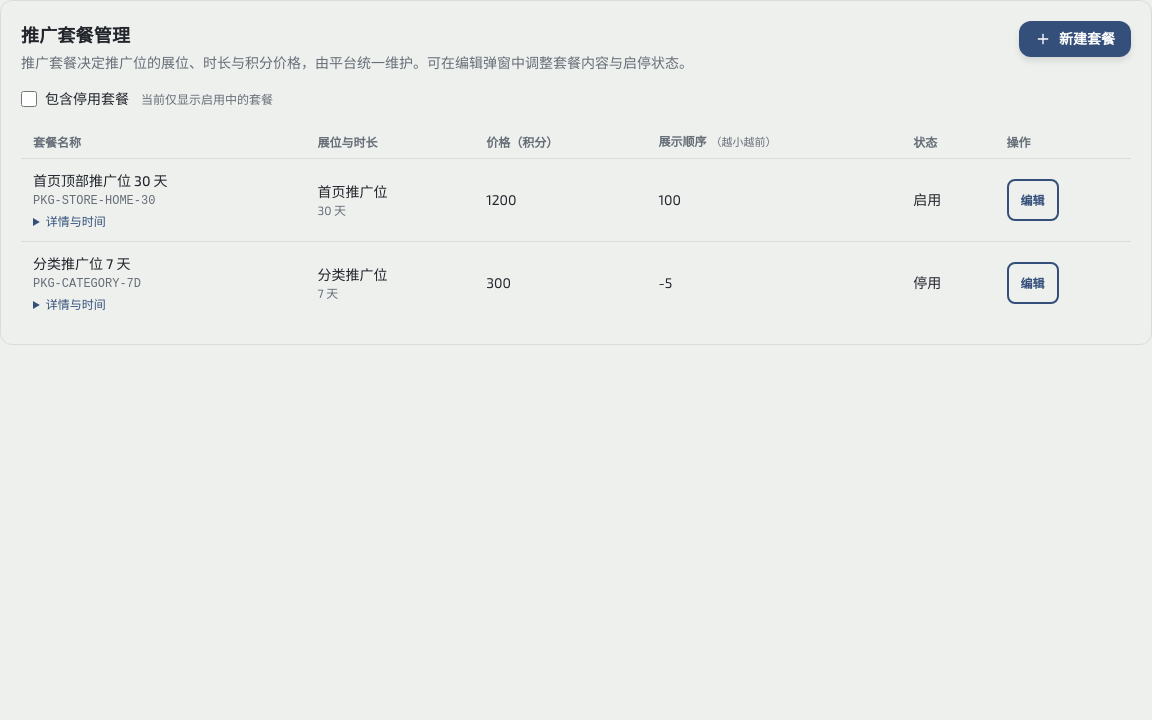
Test: package dialogs — edit target switch › switching back reseeds non-empty text fields, not just clears them
Check: the table named "推广套餐列表" is shown, box [21,125,1131,324]
Click the button with aria-label "编辑套餐 PKG-CATEGORY-7D（套餐 ID 22）". click: coordinates (1033, 283)
box: [1007,262,1059,304]
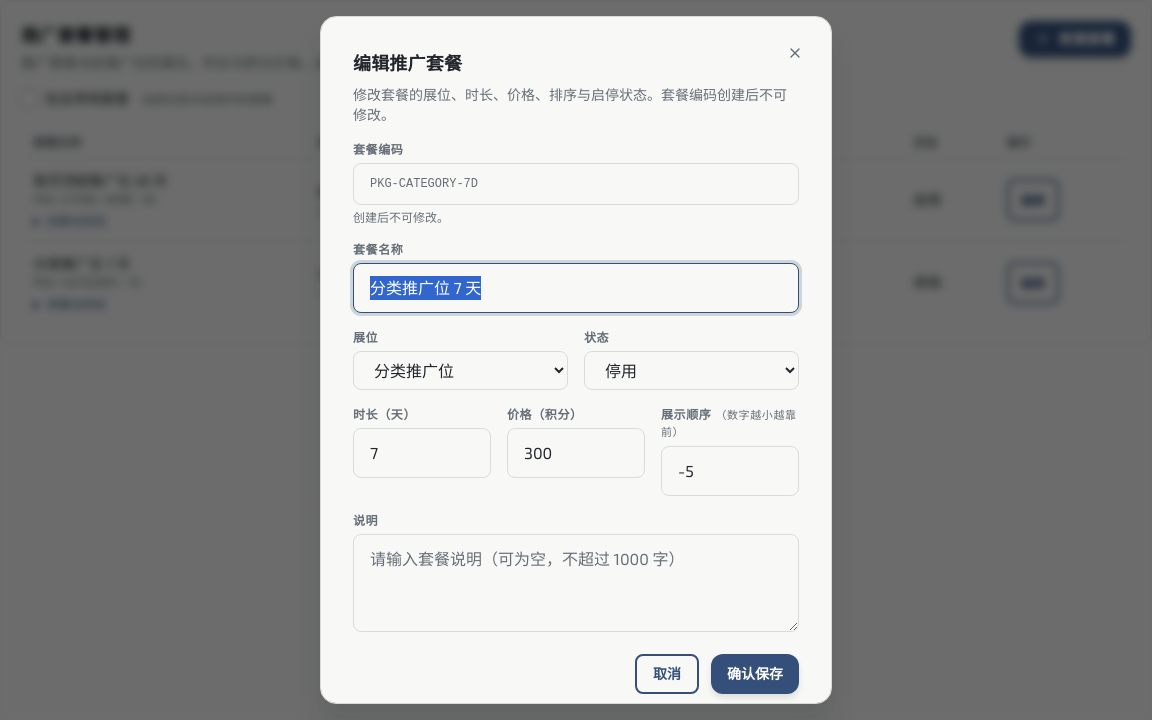
# dirty the shared text fields so a skipped reseed would be visible
Replace the text in the field labelled "套餐名称" with "被污染的套餐名". click: coordinates (576, 288)
box: [353,263,799,313]
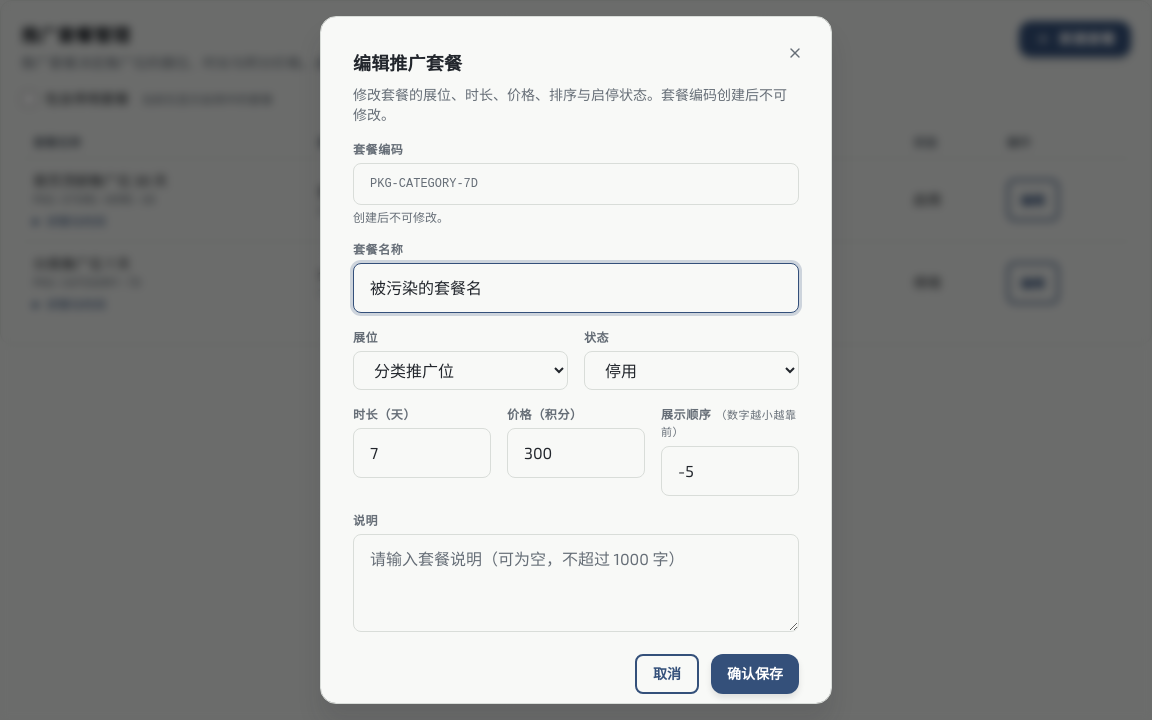
Type "被污染的说明" into the text box labelled "说明". click: coordinates (576, 583)
box: [353,534,799,632]
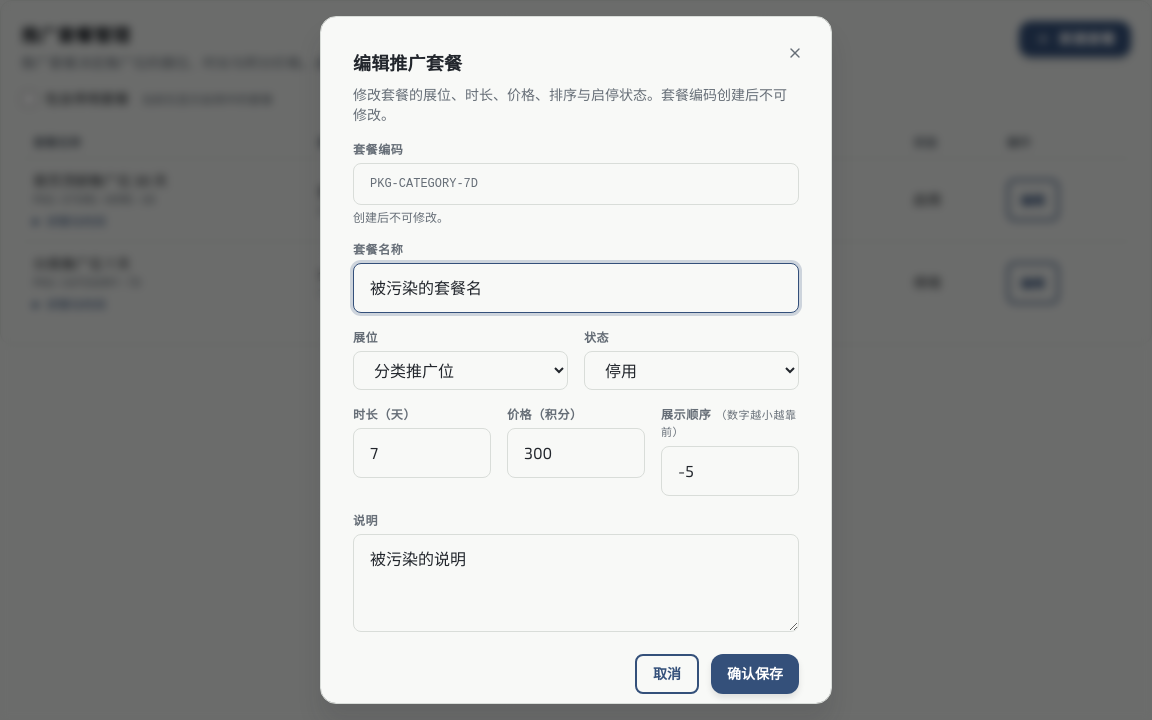
Click the button "取消". click: coordinates (667, 674)
box: [635,654,699,694]
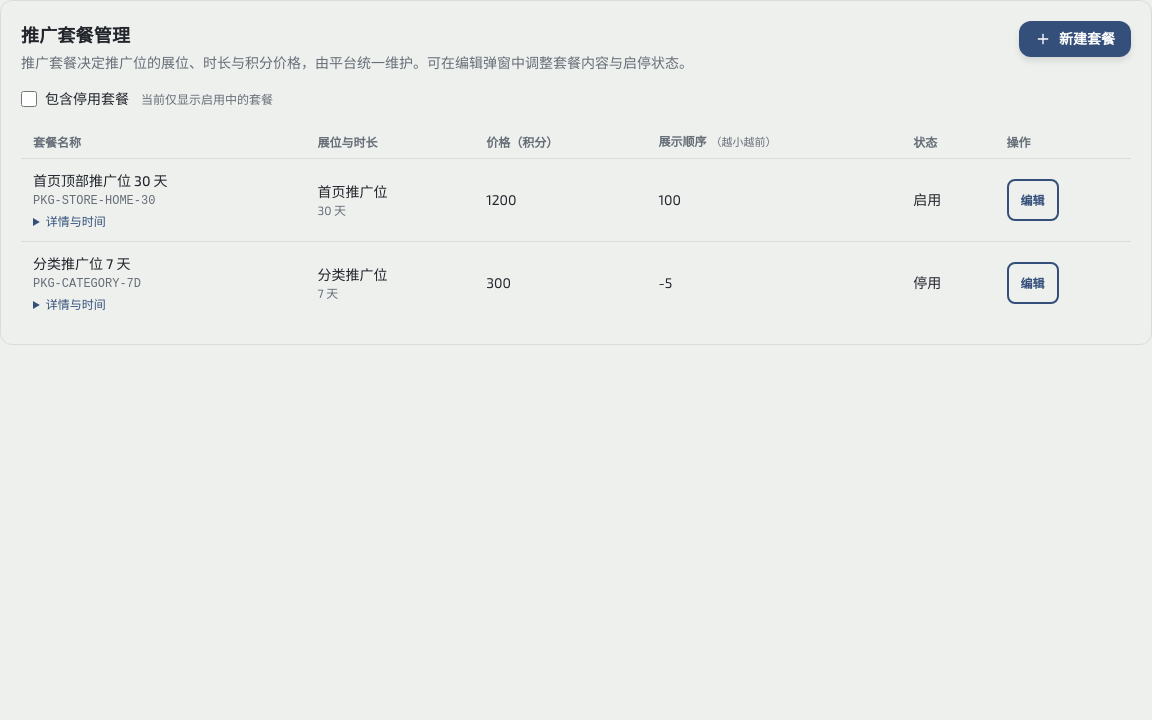
Click the button with aria-label "编辑套餐 PKG-STORE-HOME-30（套餐 ID 11）". click: coordinates (1033, 200)
box: [1007,179,1059,221]
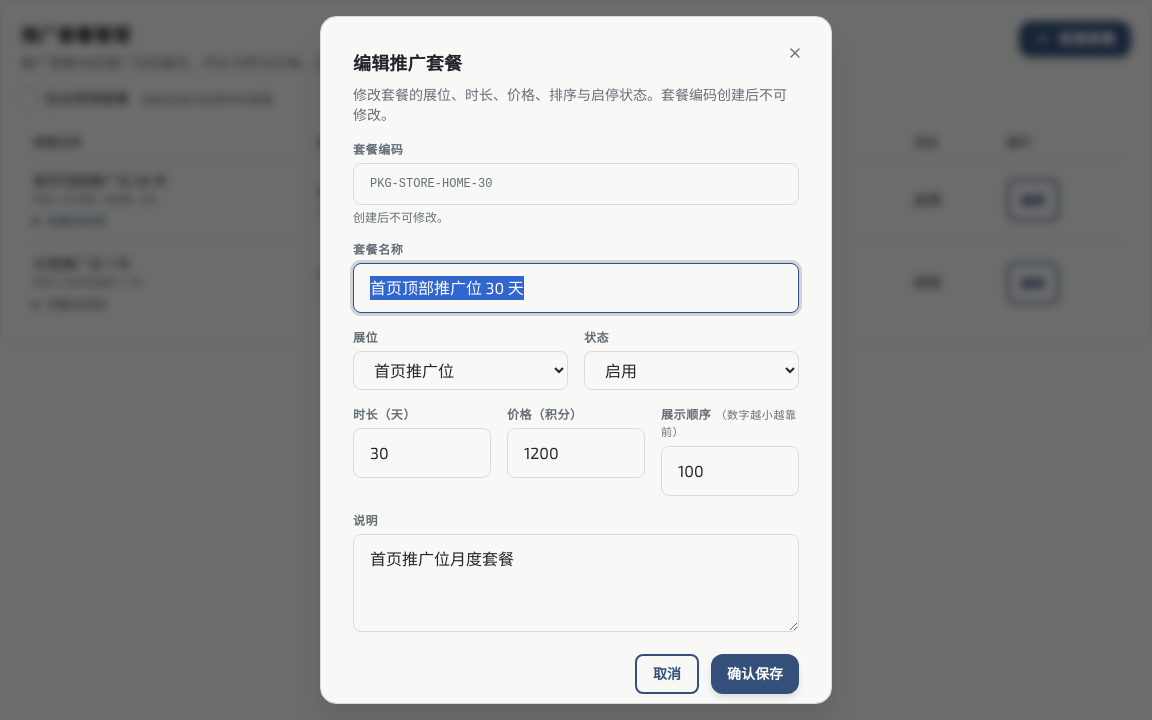
Check: the text box labelled "说明" holds "首页推广位月度套餐", box [353,534,799,632]
Check: the field labelled "套餐名称" holds "首页顶部推广位 30 天", box [353,263,799,313]
Check: the dropdown labelled "展位" shows "首页推广位", box [353,351,568,390]
